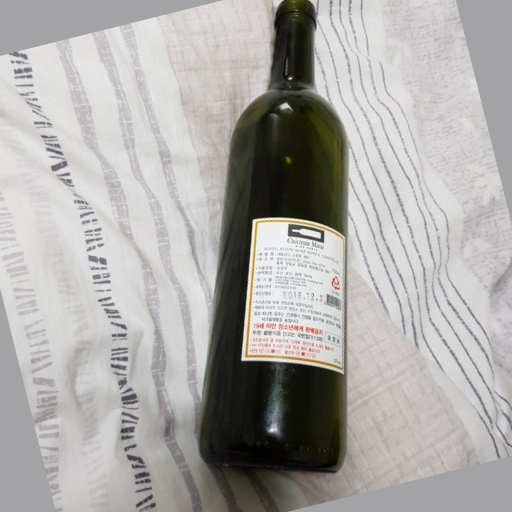Glass_2: (195, 3, 357, 471)
